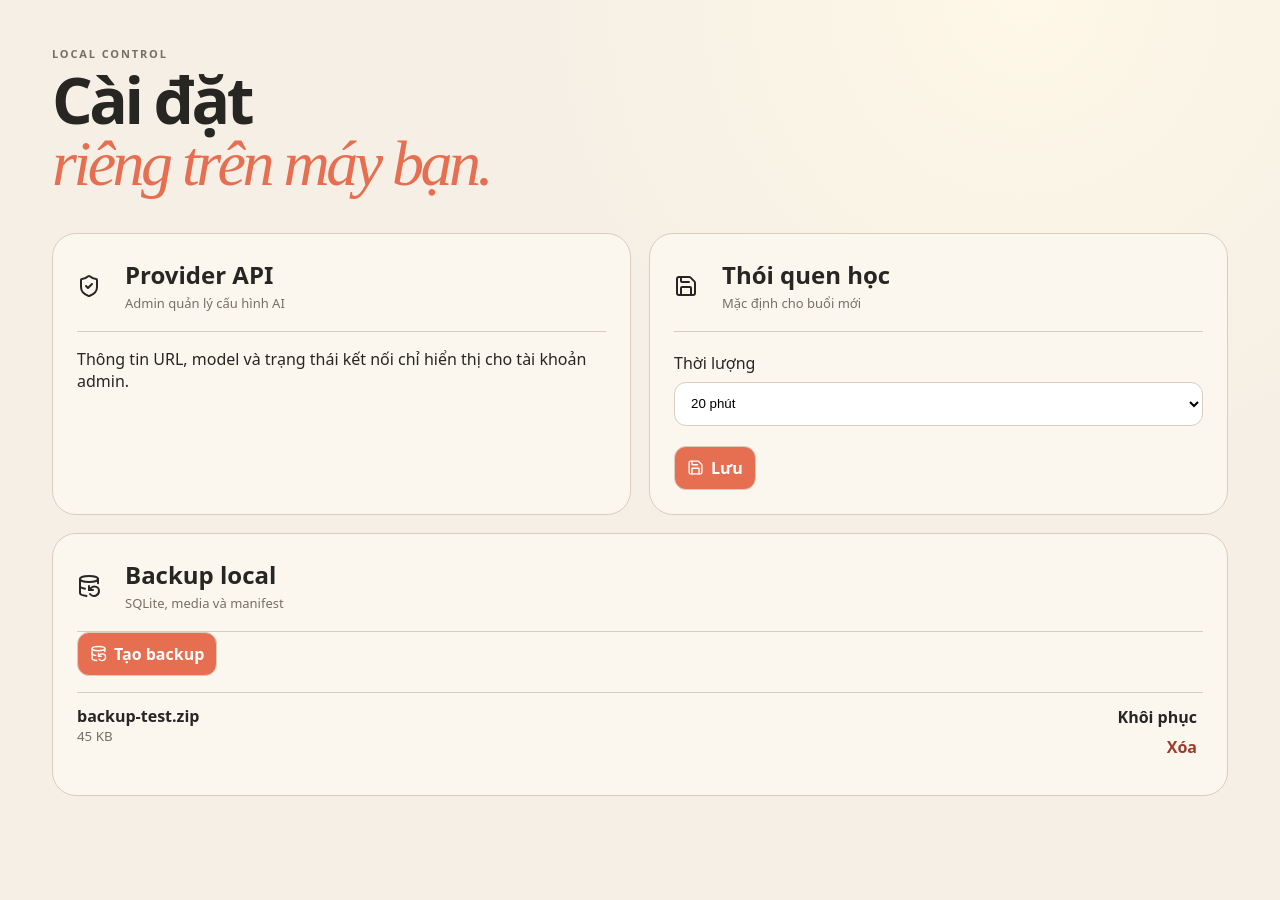
Scenario: SettingsPage › deletes a local backup after confirmation
Expected: the text "backup-test.zip" is shown, 77,705 -> 199,727
Click the button with aria-label "Xóa backup-test.zip". click: click(1182, 747)
box: 1161,735 -> 1203,759
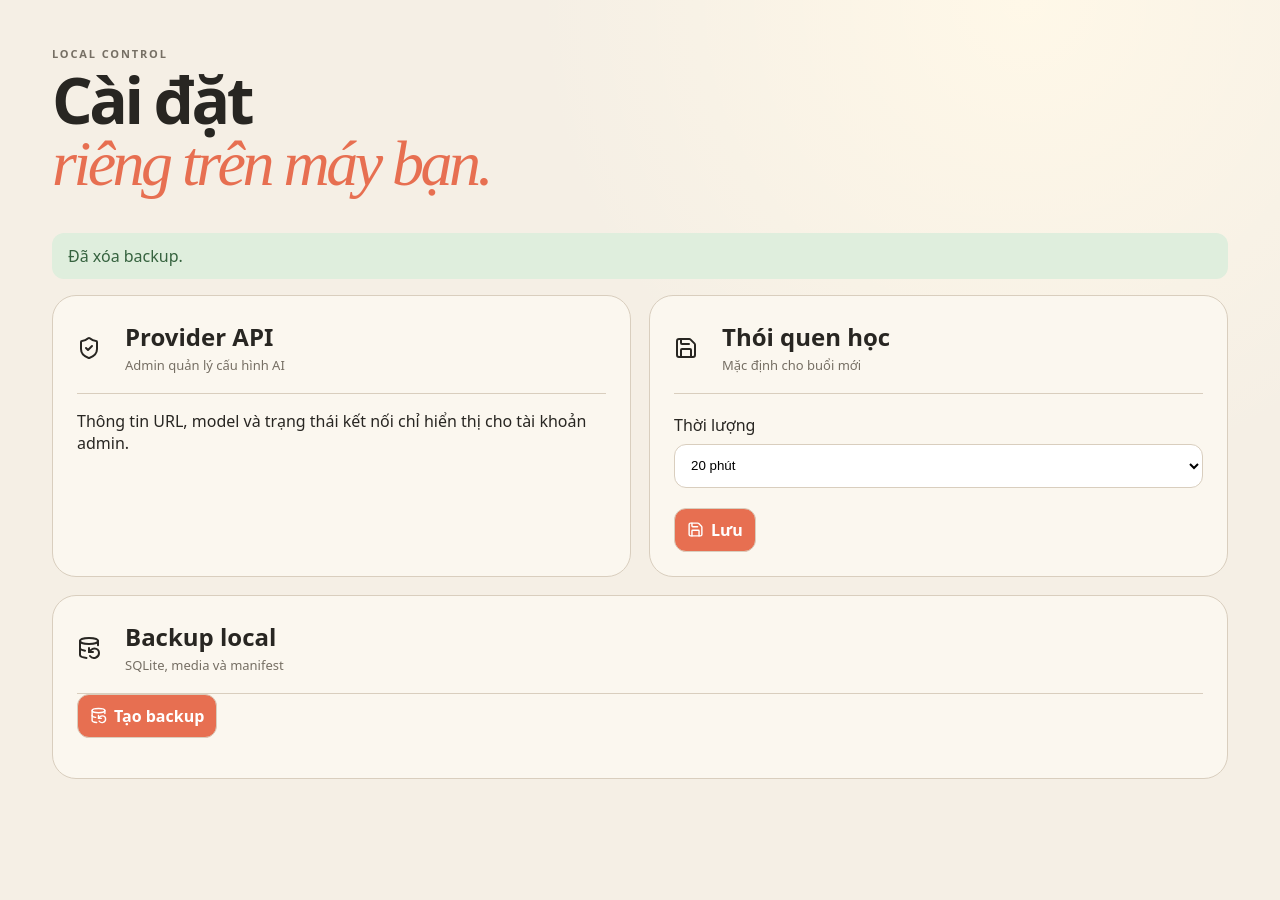
Result: the text "Đã xóa backup." is shown at 52,233 -> 1228,279
